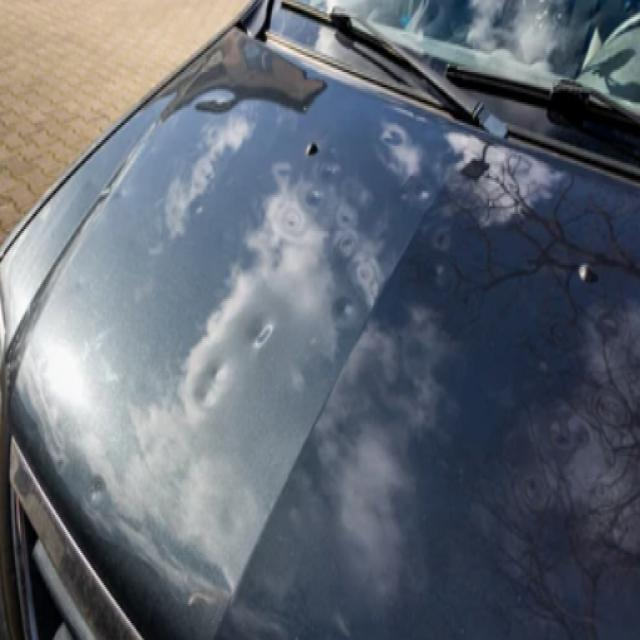dents: (194, 346, 242, 429), (236, 304, 293, 365), (328, 285, 372, 341)
